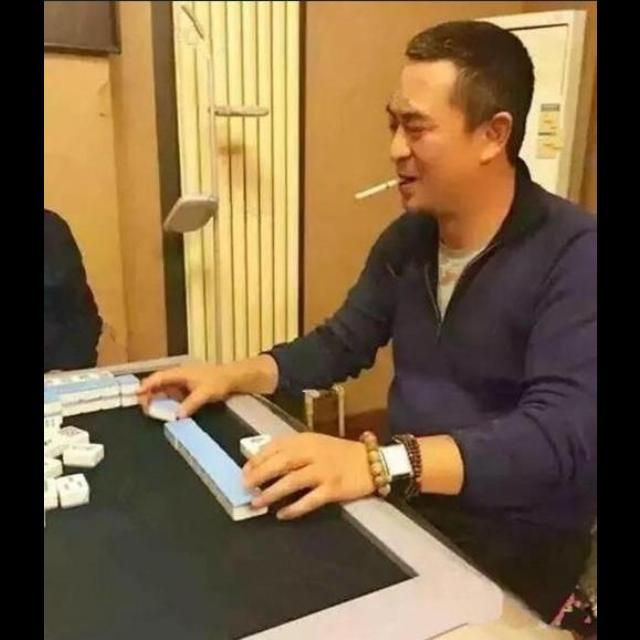rokok: (351, 172, 405, 202)
